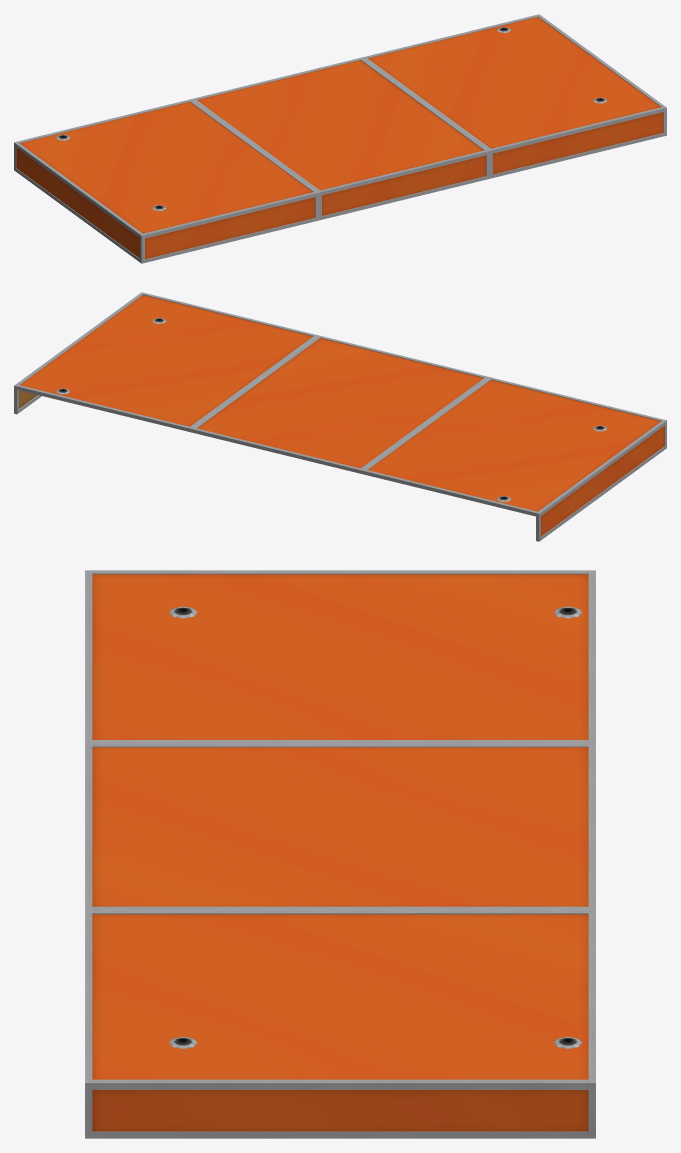
File: jsf_4P_s02_c01_t01_DX.fbx
3 views of the same model, one above another, from view 1: azimuth 30°, elevation 25°; view 2: azimuth 150°, elevation 25°; view 3: azimuth 270°, elevation 25° (orthographic). The views are drawn at different scales.
Parts seen in each view (by area): view 1: jsf_4P_s02_c01_t01_DX; view 2: jsf_4P_s02_c01_t01_DX; view 3: jsf_4P_s02_c01_t01_DX.
Boxes of the visible parts, x1,y1,x2,y2 form: jsf_4P_s02_c01_t01_DX: (14, 14, 666, 263); jsf_4P_s02_c01_t01_DX: (14, 292, 666, 541); jsf_4P_s02_c01_t01_DX: (85, 570, 595, 1138).
Bounding box in the file's own units: 246 × 12.99 × 104.
